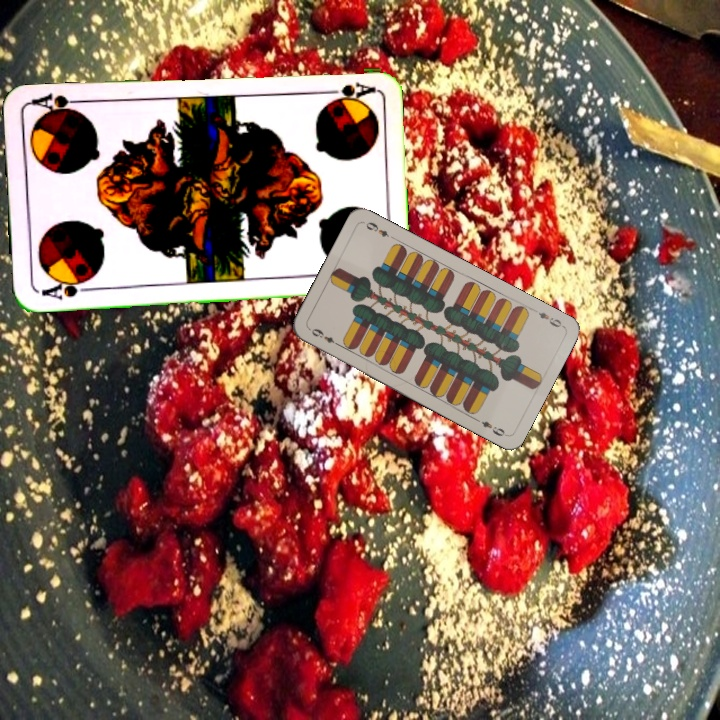E9: (528, 305, 566, 330), (307, 324, 343, 349)
SA: (37, 274, 95, 303), (317, 78, 376, 103)
